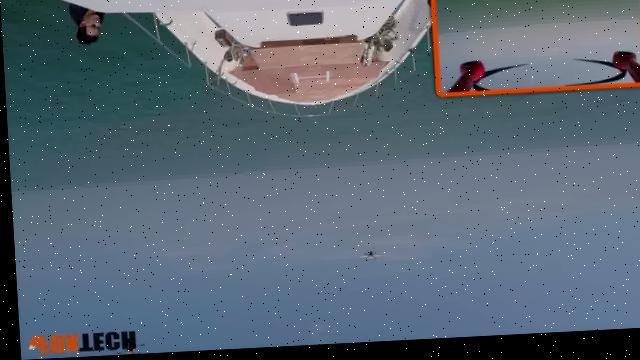drone: (353, 249, 383, 274)
